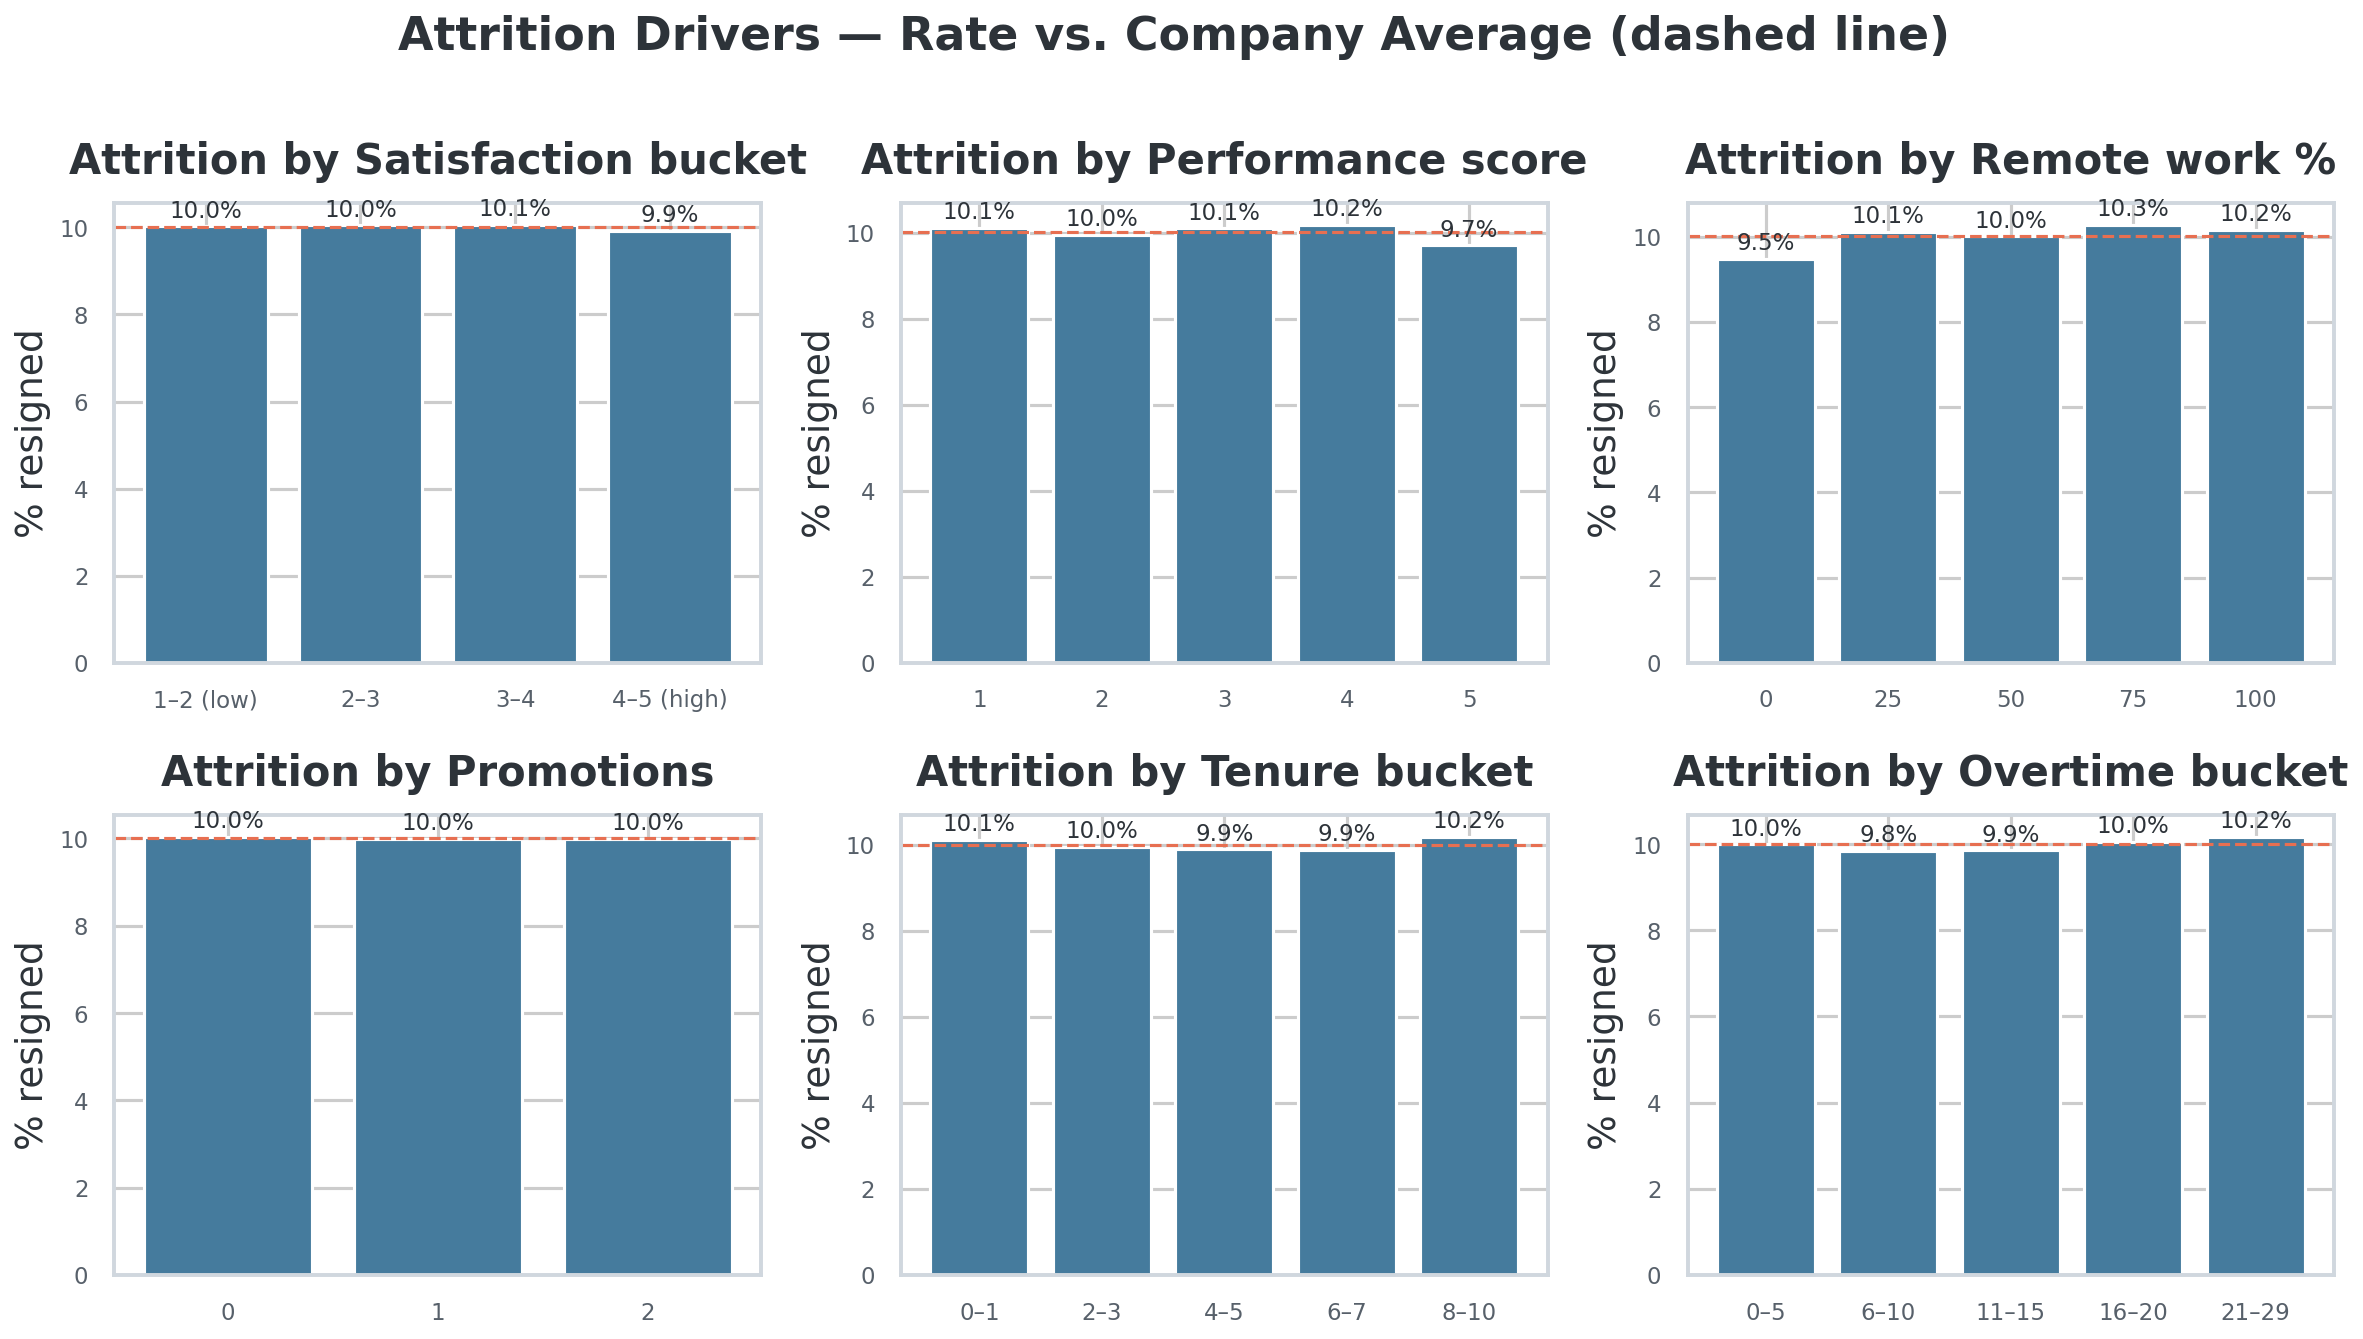

The page's visual inventory and layout, read from the dashboard file:
{"tool":"powerbi","page":{"name":"Page 3","canvas":[1920,1080],"ordinal":2},"visuals":[{"type":"shape","box":[0,0,1920,150],"z":0},{"type":"shape","box":[45.7,159.6,435,115],"z":0,"group":"g1"},{"type":"textbox","box":[55,20,920,70],"z":1000},{"type":"shape","box":[58.2,159.6,425,115],"z":1000,"group":"g1"},{"type":"textbox","box":[52.5,67.5,827.5,80],"z":2000},{"type":"shape","box":[512.6,160,435,115],"z":2000,"group":"g1"},{"type":"shape","box":[866.2,35,237.5,75],"z":3000},{"type":"shape","box":[525.1,160,425,115],"z":3000,"group":"g1"},{"type":"shape","box":[1108.8,35,237.5,75],"z":4000},{"type":"shape","box":[980.2,158.2,435,115],"z":4000,"group":"g1"},{"type":"shape","box":[1351.2,35,237.5,75],"z":5000},{"type":"shape","box":[993.2,157.9,425,115],"z":5000,"group":"g1"},{"type":"shape","box":[1593.8,35,317.5,75],"z":6000},{"type":"shape","box":[1442.1,157.9,435,115],"z":6000,"group":"g1"},{"type":"group","id":"g1","title":"Group 1","box":[45.7,157.9,1833.9,117.1],"z":7000},{"type":"shape","box":[1454.6,157.9,425,115],"z":7000,"group":"g1"},{"type":"columnChart","title":"Performance Score Distribution","fields":{"Y":["CountNonNull(Extended_Employee_Performance_and_Productivity_Data.Employee_ID)"],"Category":["Extended_Employee_Performance_and_Productivity_Data.Performance_Score"]},"box":[50,293.3,793.3,370],"z":8000},{"type":"lineChart","title":"Average Training_Hours by Performance Score","fields":{"Y":["Avg(Extended_Employee_Performance_and_Productivity_Data.Training_Hours)"],"Category":["Extended_Employee_Performance_and_Productivity_Data.Performance_Score"]},"box":[870,293.3,1000,370],"z":9000},{"type":"columnChart","title":"Avg Performance by Number of Promotions","fields":{"Y":["Avg(Extended_Employee_Performance_and_Productivity_Data.Performance_Score)"],"Category":["Extended_Employee_Performance_and_Productivity_Data.Promotions"]},"box":[50,682.5,687.5,370],"z":10000},{"type":"columnChart","title":"Tenure Distribution (Years at Company)","fields":{"Y":["CountNonNull(Extended_Employee_Performance_and_Productivity_Data.Employee_ID)"],"Category":["Extended_Employee_Performance_and_Productivity_Data.Years_At_Company (bins)"]},"box":[776.7,683.3,1093.3,370],"z":11000},{"type":"cardVisual","fields":{"Data":["Extended_Employee_Performance_and_Productivity_Data.Average Performance Score"]},"box":[57.5,147.5,410,150],"z":12000},{"type":"cardVisual","fields":{"Data":["Extended_Employee_Performance_and_Productivity_Data.AVG Training Hours"]},"box":[525,140,410,150],"z":13000},{"type":"cardVisual","fields":{"Data":["Extended_Employee_Performance_and_Productivity_Data.AVG Projects Handled"]},"box":[1000,140,410,150],"z":14000},{"type":"image","box":[762.5,150,217.5,130],"z":15000},{"type":"image","box":[310,185,205,112.5],"z":16000},{"type":"image","box":[1245,157.5,205,112.5],"z":17000},{"type":"cardVisual","fields":{"Data":["Extended_Employee_Performance_and_Productivity_Data.AVG Tenure (YRS)"]},"box":[1453.8,136.8,365,150],"z":18000},{"type":"image","box":[1724,180,132,76],"z":19000}]}

Visuals, with their boxes in screenshot pixels (x1, y1, x2, y2), scaled from the page's 1920x1080 canvas onto the 2363x1339 screenshot:
shape: BBox(0, 0, 2362, 186)
shape: BBox(56, 198, 592, 340)
textbox: BBox(68, 25, 1200, 112)
shape: BBox(72, 198, 595, 340)
textbox: BBox(65, 84, 1083, 183)
shape: BBox(631, 198, 1166, 341)
shape: BBox(1066, 43, 1358, 136)
shape: BBox(646, 198, 1169, 341)
shape: BBox(1365, 43, 1657, 136)
shape: BBox(1206, 196, 1742, 339)
shape: BBox(1663, 43, 1955, 136)
shape: BBox(1222, 196, 1745, 338)
shape: BBox(1962, 43, 2352, 136)
shape: BBox(1775, 196, 2310, 338)
"Group 1" group: BBox(56, 196, 2313, 341)
shape: BBox(1790, 196, 2313, 338)
"Performance Score Distribution" columnChart: BBox(62, 364, 1038, 822)
"Average Training_Hours by Performance Score" lineChart: BBox(1071, 364, 2301, 822)
"Avg Performance by Number of Promotions" columnChart: BBox(62, 846, 908, 1305)
"Tenure Distribution (Years at Company)" columnChart: BBox(956, 847, 2301, 1306)
cardVisual - Extended_Employee_Performance_and_Productivity_Data.Average Performance Score: BBox(71, 183, 575, 369)
cardVisual - Extended_Employee_Performance_and_Productivity_Data.AVG Training Hours: BBox(646, 174, 1151, 360)
cardVisual - Extended_Employee_Performance_and_Productivity_Data.AVG Projects Handled: BBox(1231, 174, 1735, 360)
image: BBox(938, 186, 1206, 347)
image: BBox(382, 229, 634, 369)
image: BBox(1532, 195, 1785, 335)
cardVisual - Extended_Employee_Performance_and_Productivity_Data.AVG Tenure (YRS): BBox(1789, 170, 2238, 356)
image: BBox(2122, 223, 2284, 317)
